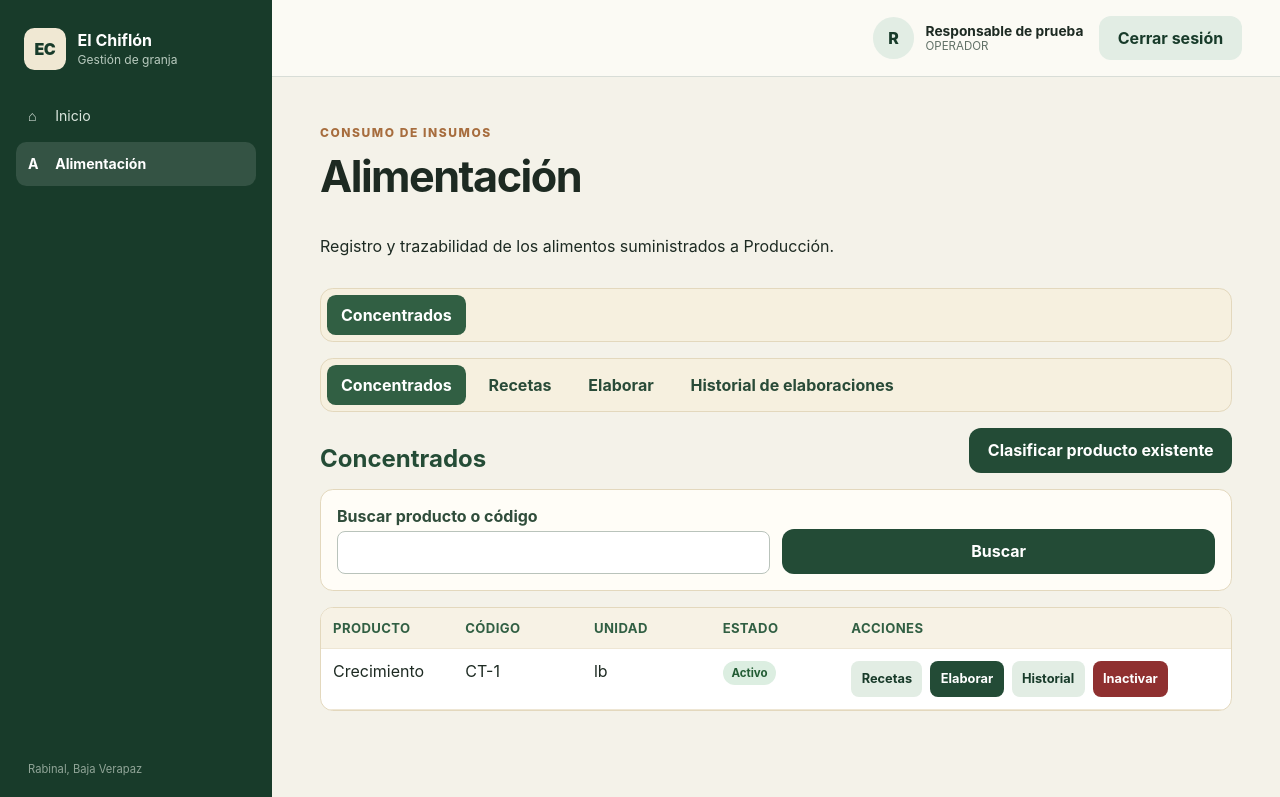
Test: navega a Concentrados sin exigir permisos de alimentación operativa
Expected: the heading "Concentrados" is shown, [320,444,486,473]
Click the link "Recetas" in the row of "Historial de elaboraciones" at (520, 385), box [489,375,552,395]
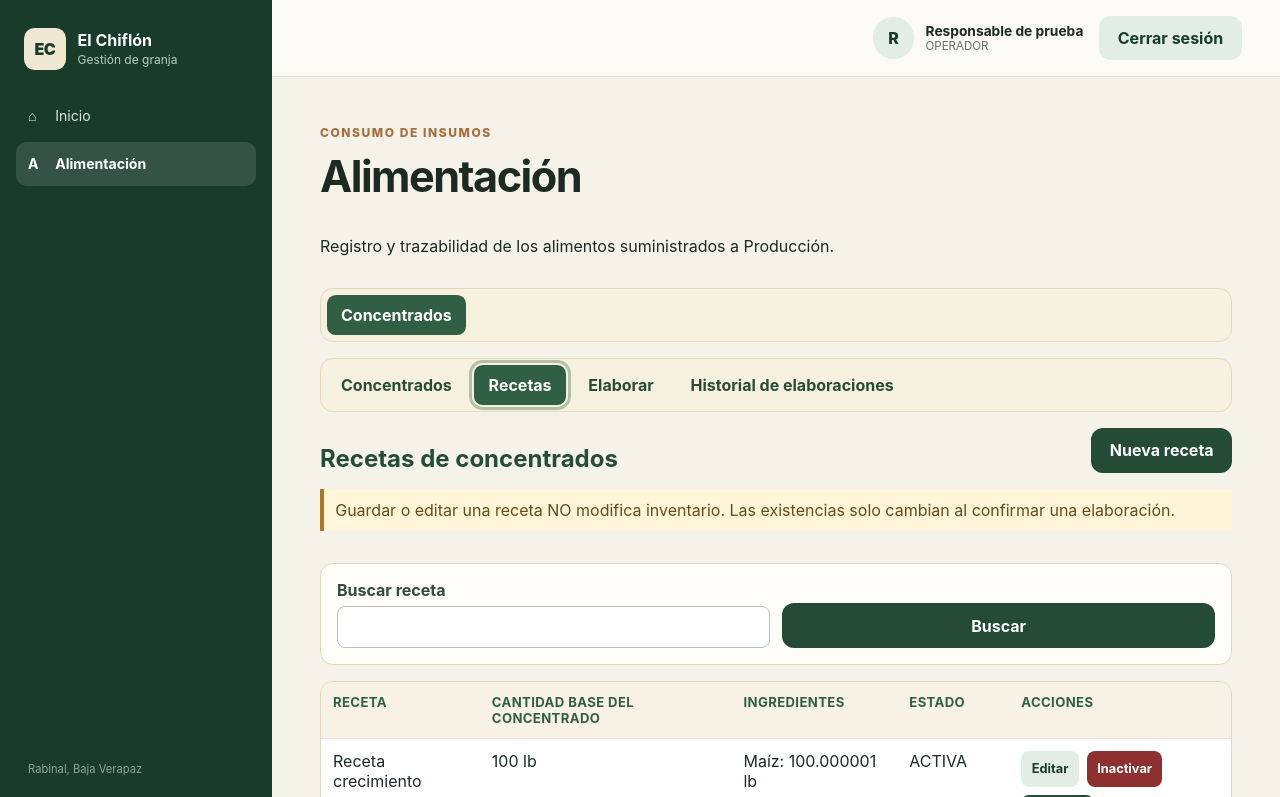
Now the heading "Recetas de concentrados" is shown, box [320,444,618,473]
